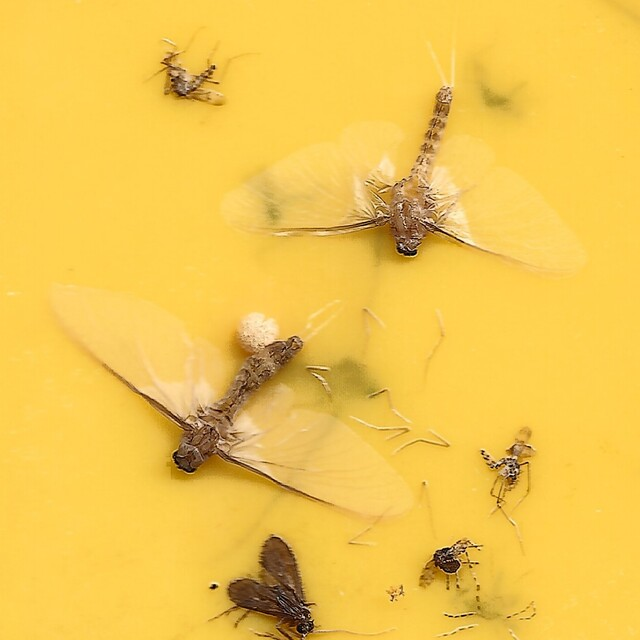Ephemeroptera: (50, 284, 412, 519), (230, 82, 590, 282)
Nematocera: (479, 428, 539, 496), (160, 51, 226, 110), (416, 541, 480, 589)
